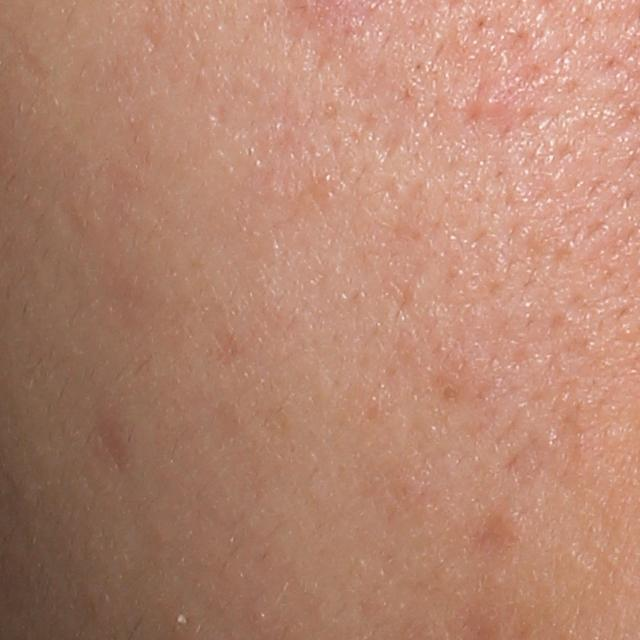papule: (476, 86, 506, 118)
